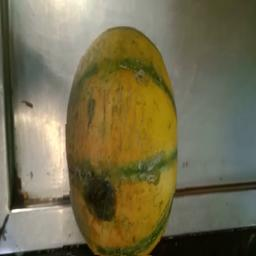Melon Semirotten: (64, 23, 188, 256)
